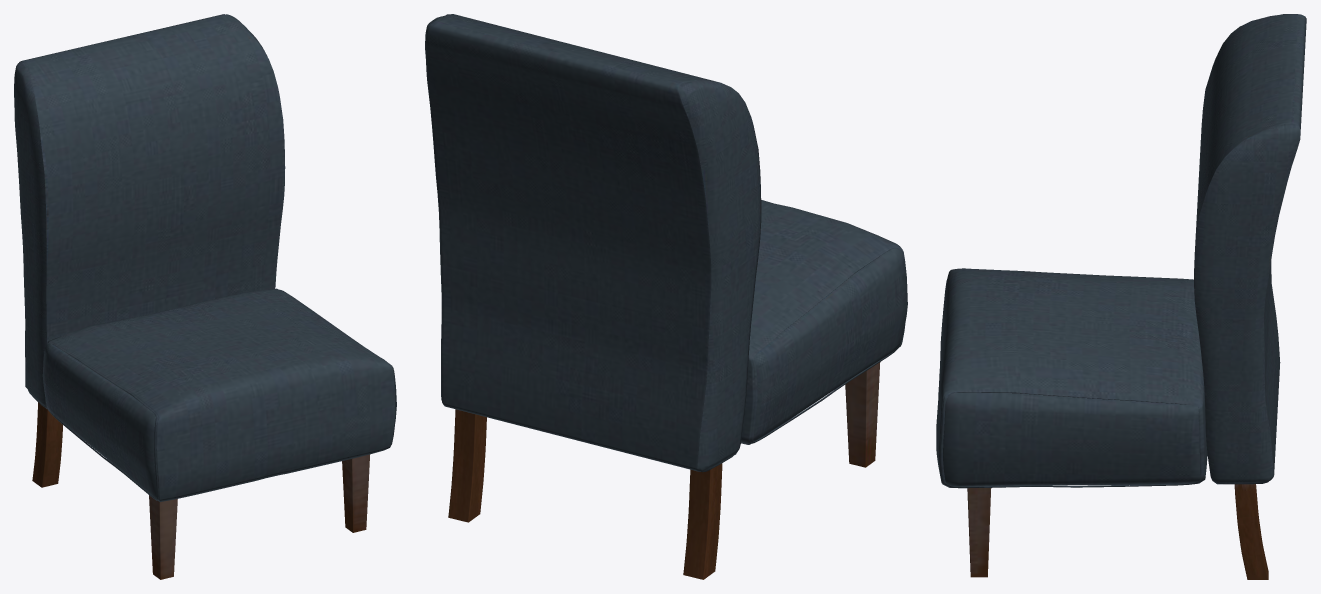
Rendered from B07BWJCZJX.glb.
3 renders of one model, left to right at view 1: azimuth 30°, elevation 25°; view 2: azimuth 150°, elevation 25°; view 3: azimuth 270°, elevation 25°, orthographic. The views are drawn at different scales.
Visible parts, largest first — view 1: Root; view 2: Root; view 3: Root.
Boxes of the visible parts, box(x1,y1,x2,y2) form: Root: box(14, 14, 396, 579); Root: box(425, 14, 907, 579); Root: box(936, 14, 1306, 579).
Size of the model in its own units: 0.513 by 0.804 by 0.5915.
1 material, 1 textured.
